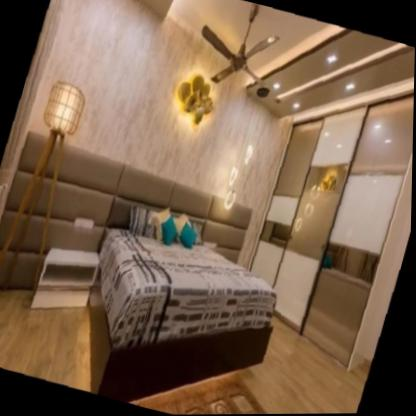Bed: (70, 188, 298, 409)
Closet: (257, 61, 415, 368)
Wall Panel: (121, 0, 415, 116)
